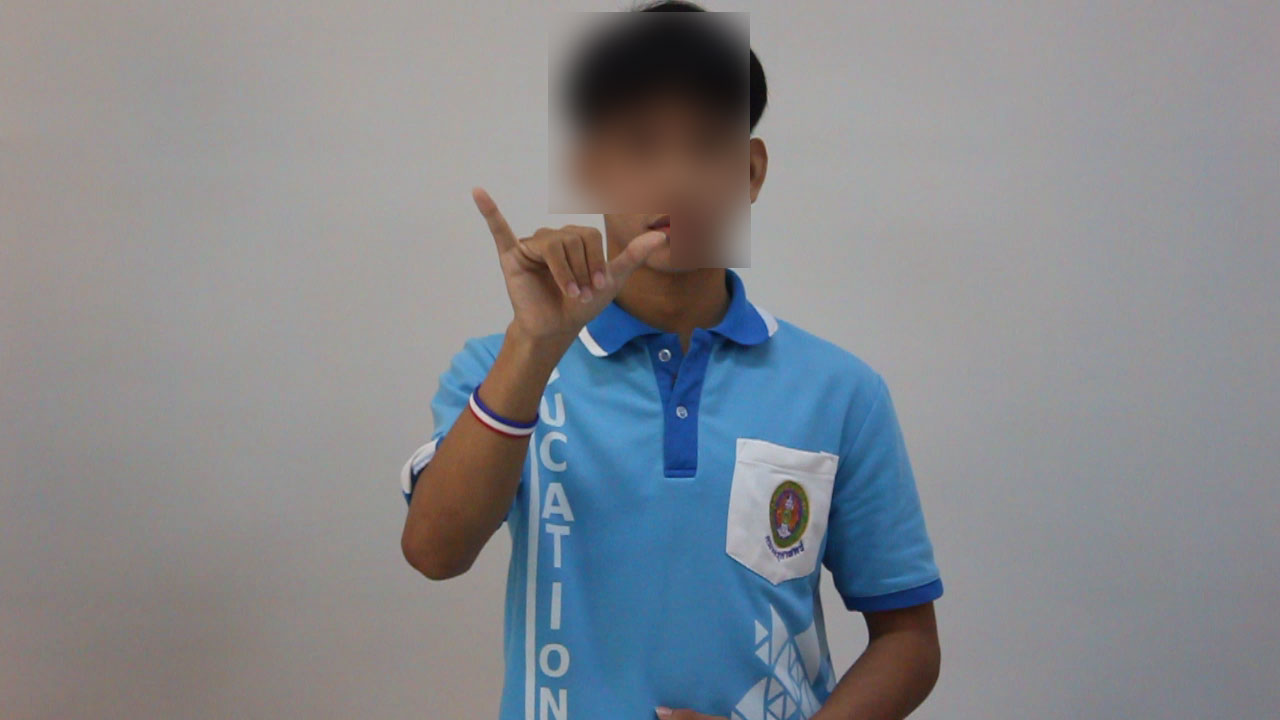yor: (459, 180, 672, 348)
